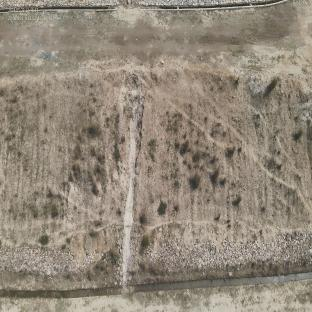rock_toe: (134, 228, 309, 277), (0, 239, 121, 279)
slope_drain: (118, 96, 143, 283)
toe_drain: (0, 270, 312, 301)
